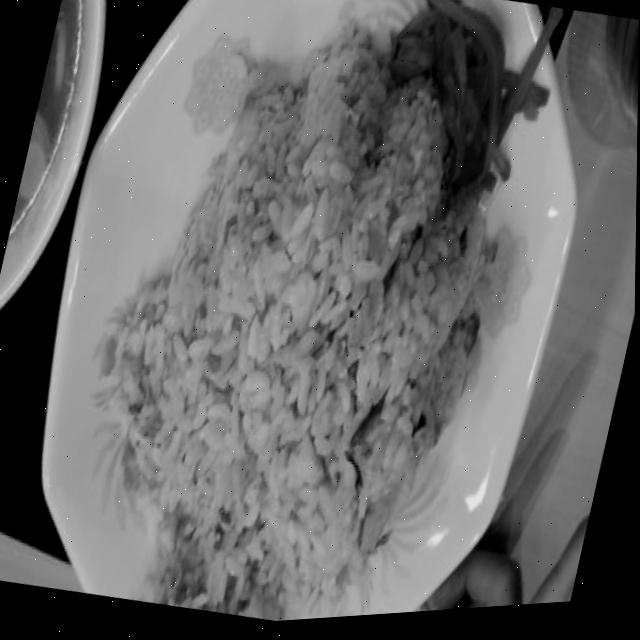米饭主食: (17, 0, 423, 400)
